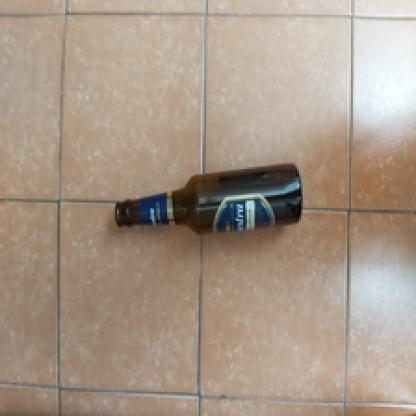Can: (109, 165, 313, 237)
